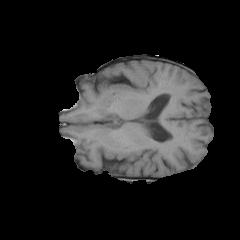glioma: (98, 76, 153, 97)
